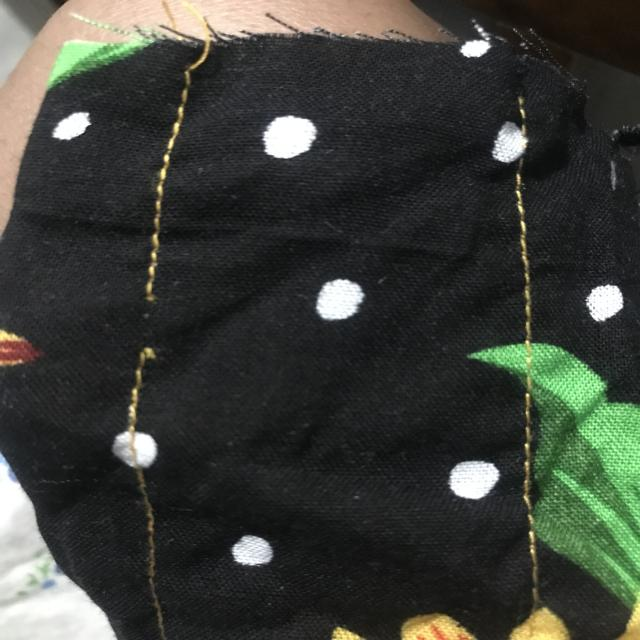broken: (119, 274, 180, 366)
good: (146, 170, 176, 264)
